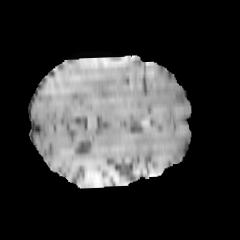glioma: (58, 55, 181, 110)
